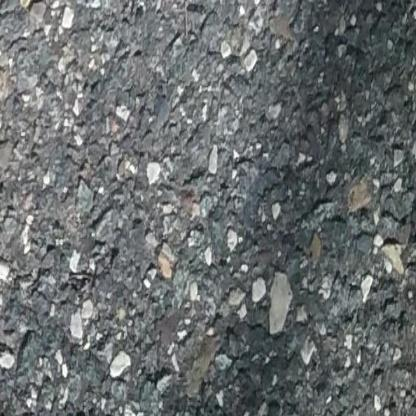Cracks: (0, 359, 32, 416)
